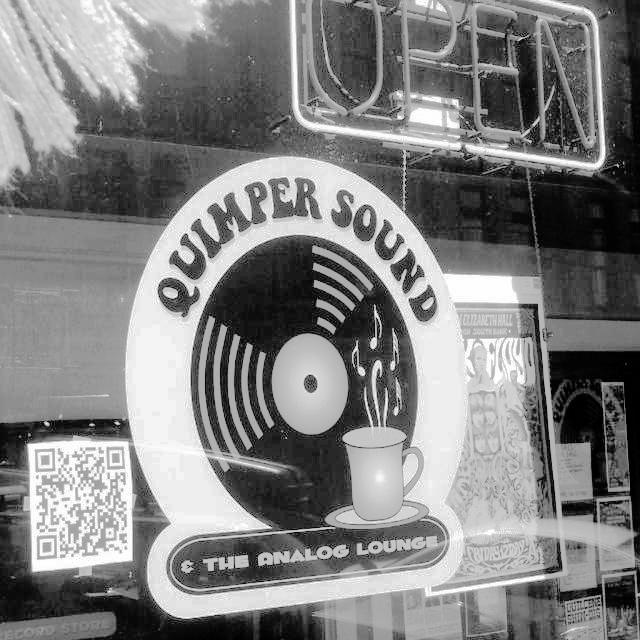qr_code: (34, 447, 127, 559)
